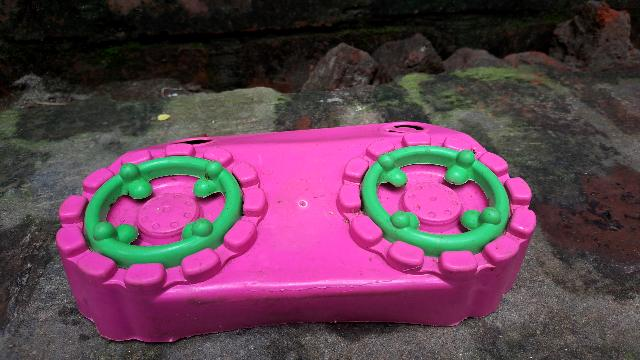hardplastic: (57, 124, 498, 301)
